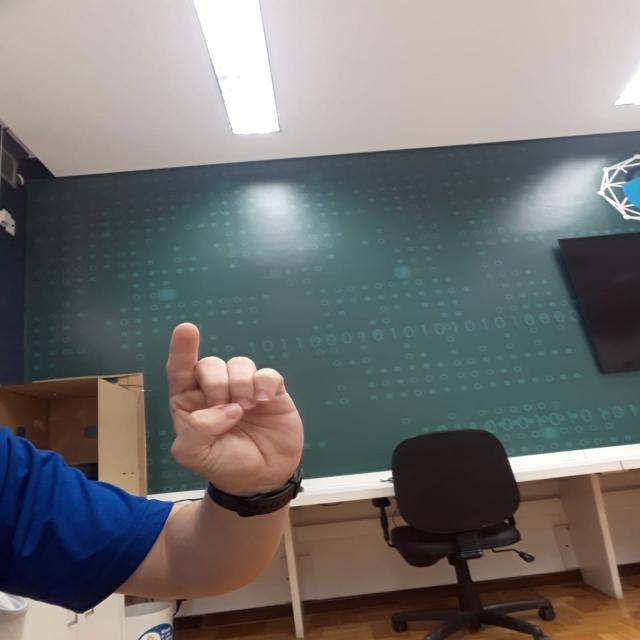D2: (158, 315, 320, 488)
